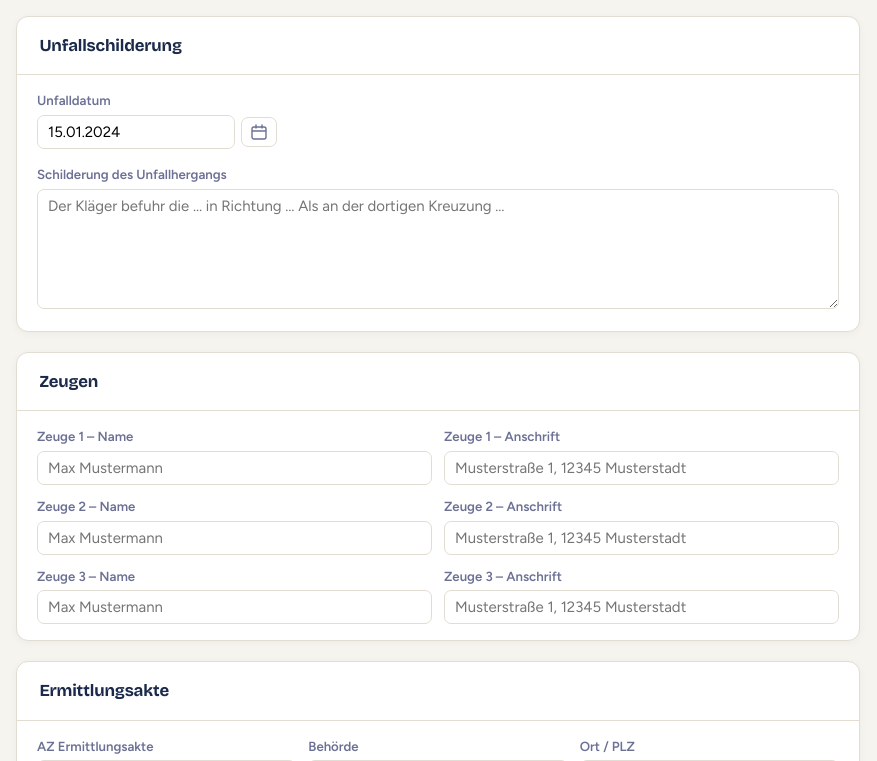
Test case: UnfalldetailsSection – Unfalldatum-Feld › warnt bei einem Datum in der Zukunft
This screenshot has width=877, height=761.
Replace the text in the field showing "15.01.2024" with "01.01.2099". click: (136, 132)
box: [37,115,235,149]
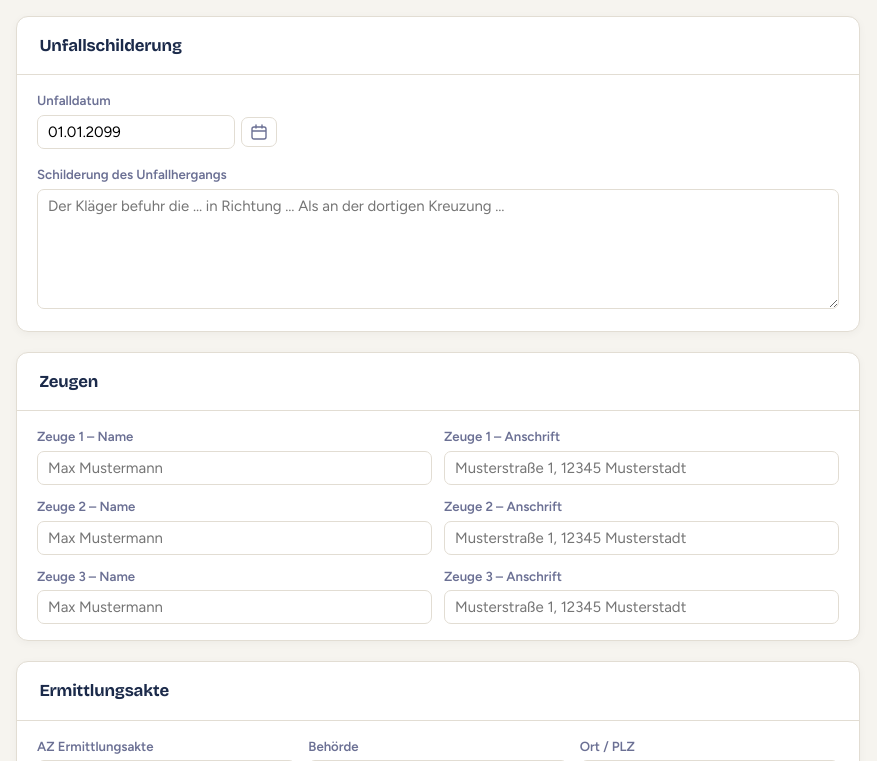
Leave the field showing "15.01.2024", box [37,115,235,149]
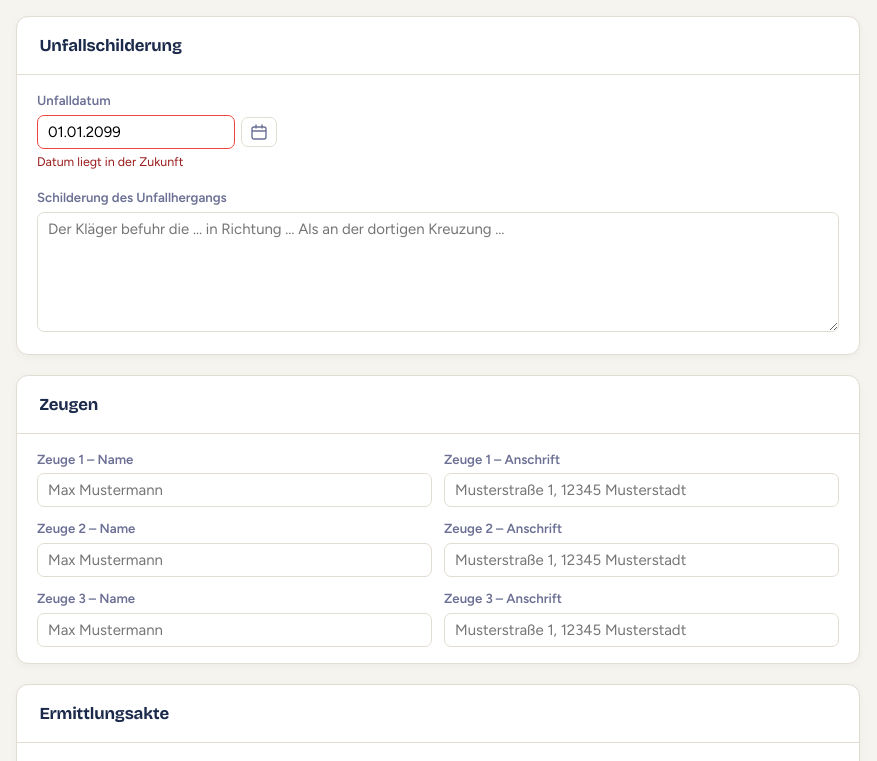
Expected: the text "Datum liegt in der Zukunft" is shown, [37,154,183,169]
